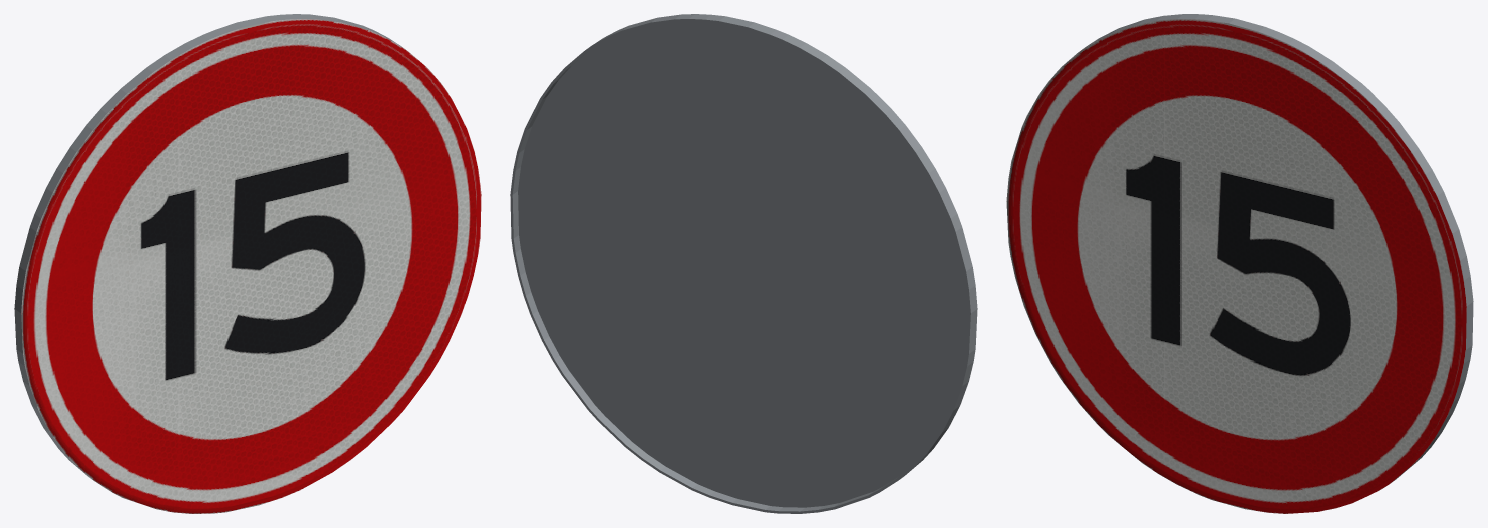
3 views of the same model, side by side, from view 1: azimuth 30°, elevation 25°; view 2: azimuth 150°, elevation 25°; view 3: azimuth 330°, elevation 25° (orthographic).
Parts seen in each view (by area): view 1: cat_51093e7632284ddb; view 2: cat_51093e7632284ddb; view 3: cat_51093e7632284ddb.
Boxes of the visible parts, <box> form: cat_51093e7632284ddb: <box>14,14,481,513</box>; cat_51093e7632284ddb: <box>510,14,977,513</box>; cat_51093e7632284ddb: <box>1006,14,1473,513</box>.
Bounding box in the file's own units: 0.6 × 0.015 × 0.6.
Materials: 2 (1 with a texture image).
